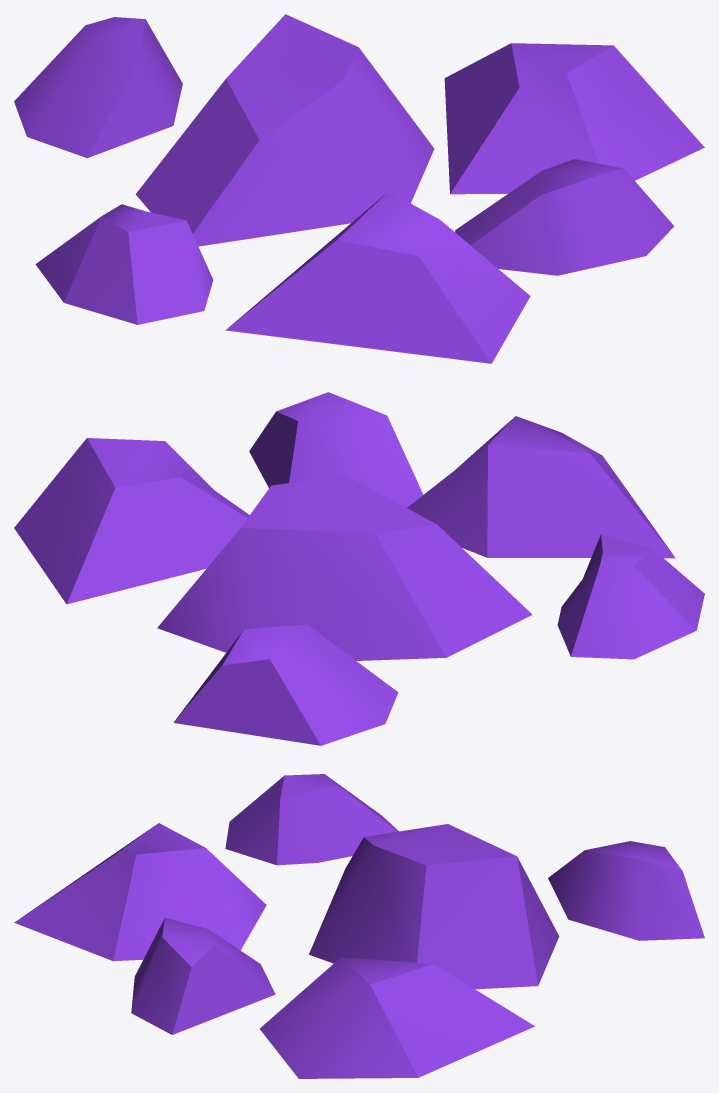
File: Rubble02_mesh.fbx
The picture shows the model from 3 angles, top to bottom: view 1: azimuth 30°, elevation 25°; view 2: azimuth 150°, elevation 25°; view 3: azimuth 270°, elevation 25°; orthographic projection. The views are drawn at different scales.
Visible parts, largest first — view 1: Rubble02_mesh; view 2: Rubble02_mesh; view 3: Rubble02_mesh.
Part boxes in pixels (x1,y1,x2,y2): Rubble02_mesh: [14, 14, 704, 363]; Rubble02_mesh: [14, 392, 704, 745]; Rubble02_mesh: [14, 774, 704, 1078].
Size of the model in its own units: 252 by 44.08 by 271.
